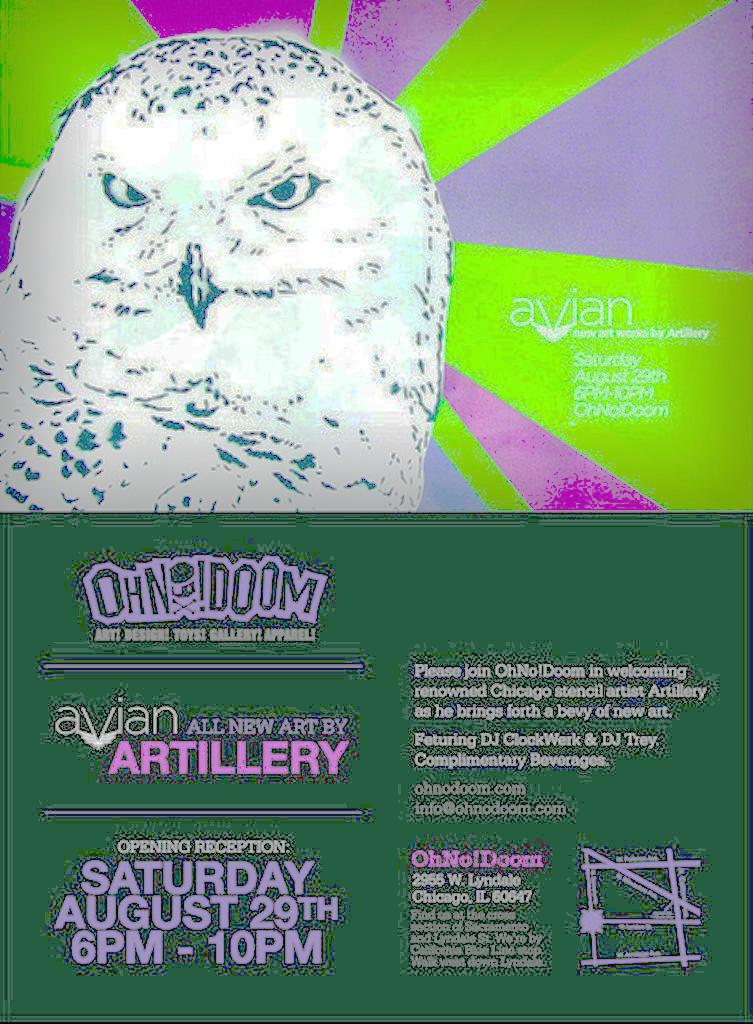Owl: (0, 32, 456, 510)
